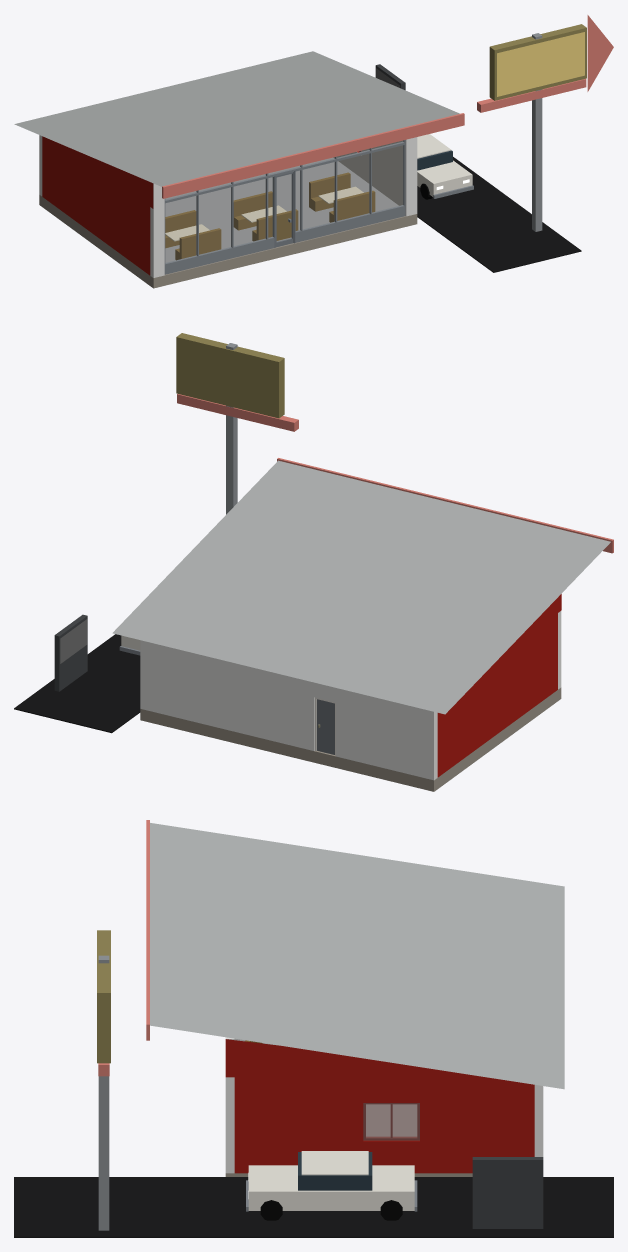
File: drivein.glb
The picture shows the model from 3 angles, top to bottom: view 1: azimuth 30°, elevation 25°; view 2: azimuth 150°, elevation 25°; view 3: azimuth 270°, elevation 25°; orthographic projection. The views are drawn at different scales.
Visible parts, largest first — view 1: LOD0, FURN, LEAF0; view 2: LOD0, LEAF1; view 3: LOD0.
Part boxes in pixels (x1,y1,x2,y2): LOD0: (14, 15, 613, 288); FURN: (165, 172, 375, 260); LEAF0: (275, 172, 293, 247); LOD0: (14, 333, 613, 791); LEAF1: (317, 699, 334, 754); LOD0: (14, 820, 613, 1237).
Size of what is drawn, in the model's own units: 19.65 by 9.3 by 17.
